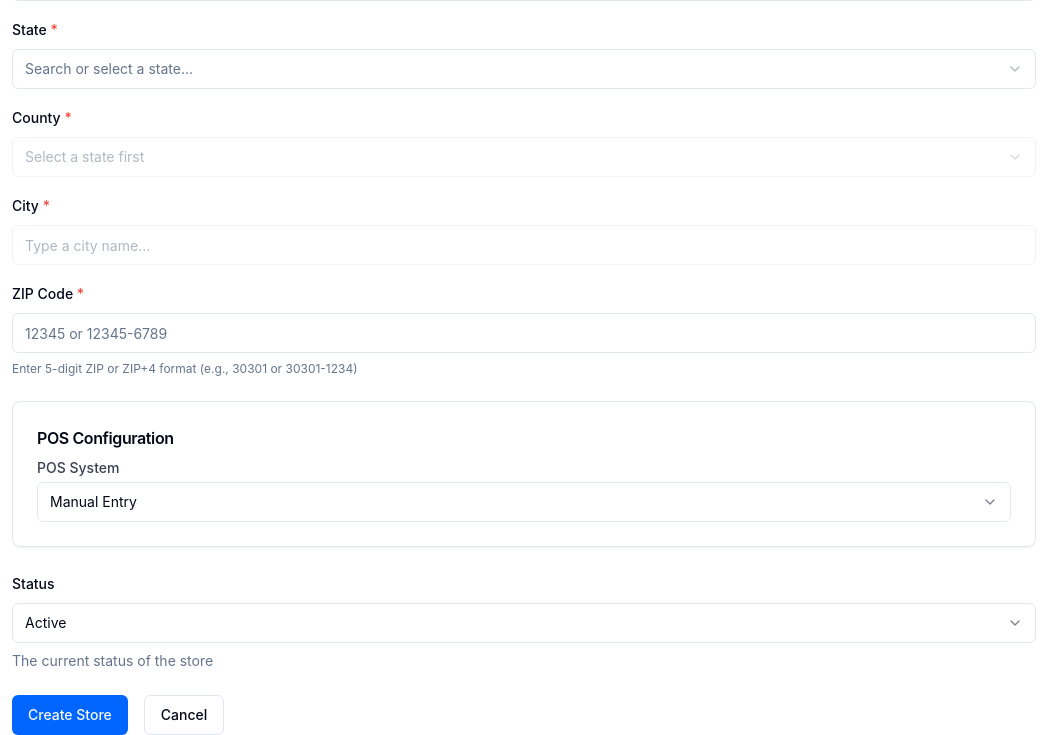
Scenario: 2.4-COMPONENT: StoreForm Component › [P0] 2.4-COMPONENT-019: should display validation error when name is empty
The image size is (1048, 735).
(page scrolled)
Note: User submits form without filling name
Step 1. Click the button "Create Store" → (70, 715), box [12,695,128,734]
(page scrolled)
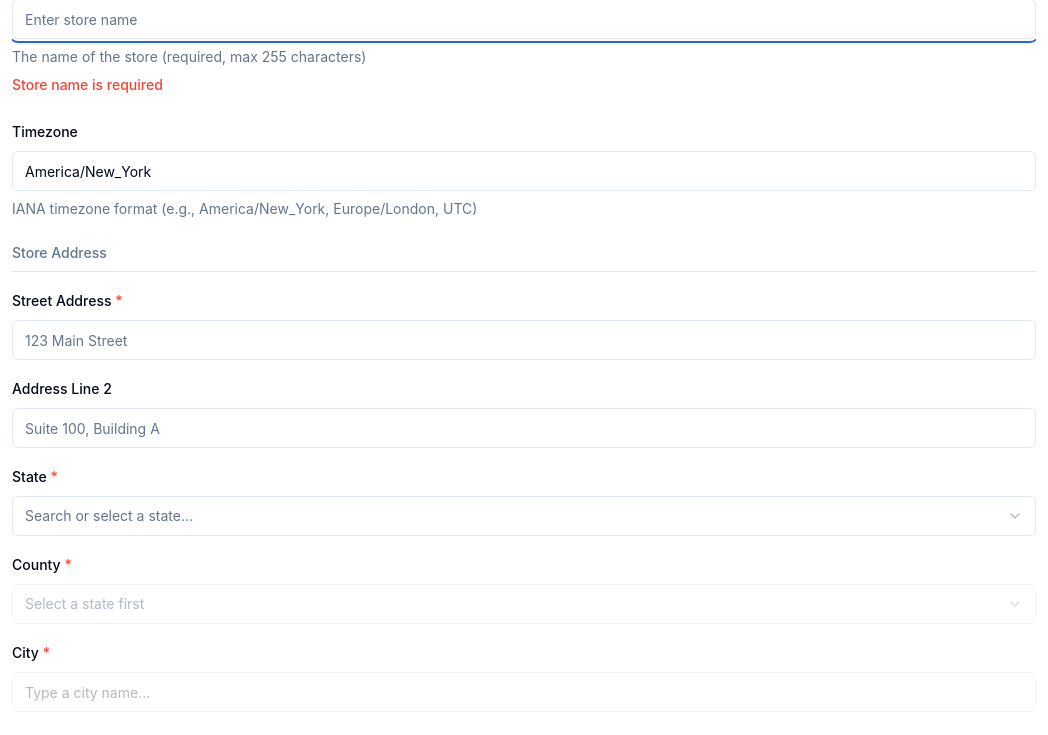
Expected: the text "Store name is required" is shown, [12,76,163,93]
